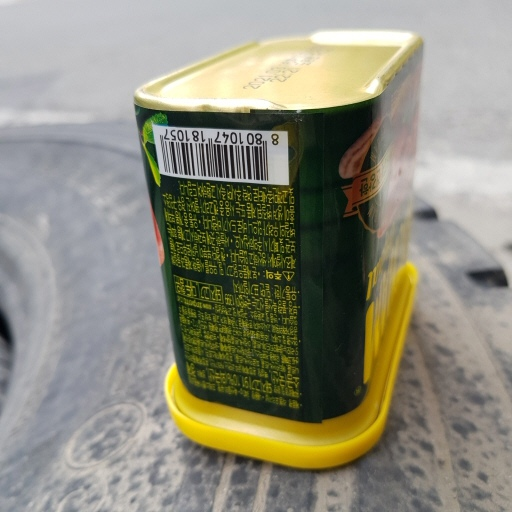Metal_2: (119, 29, 426, 466)
